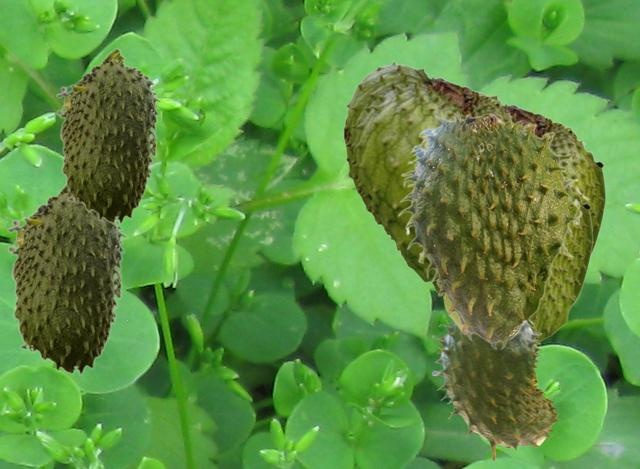guyabano: (397, 112, 589, 349), (343, 59, 513, 282), (431, 184, 592, 342), (7, 183, 127, 374), (479, 91, 605, 254), (56, 47, 161, 223), (432, 320, 558, 461)
